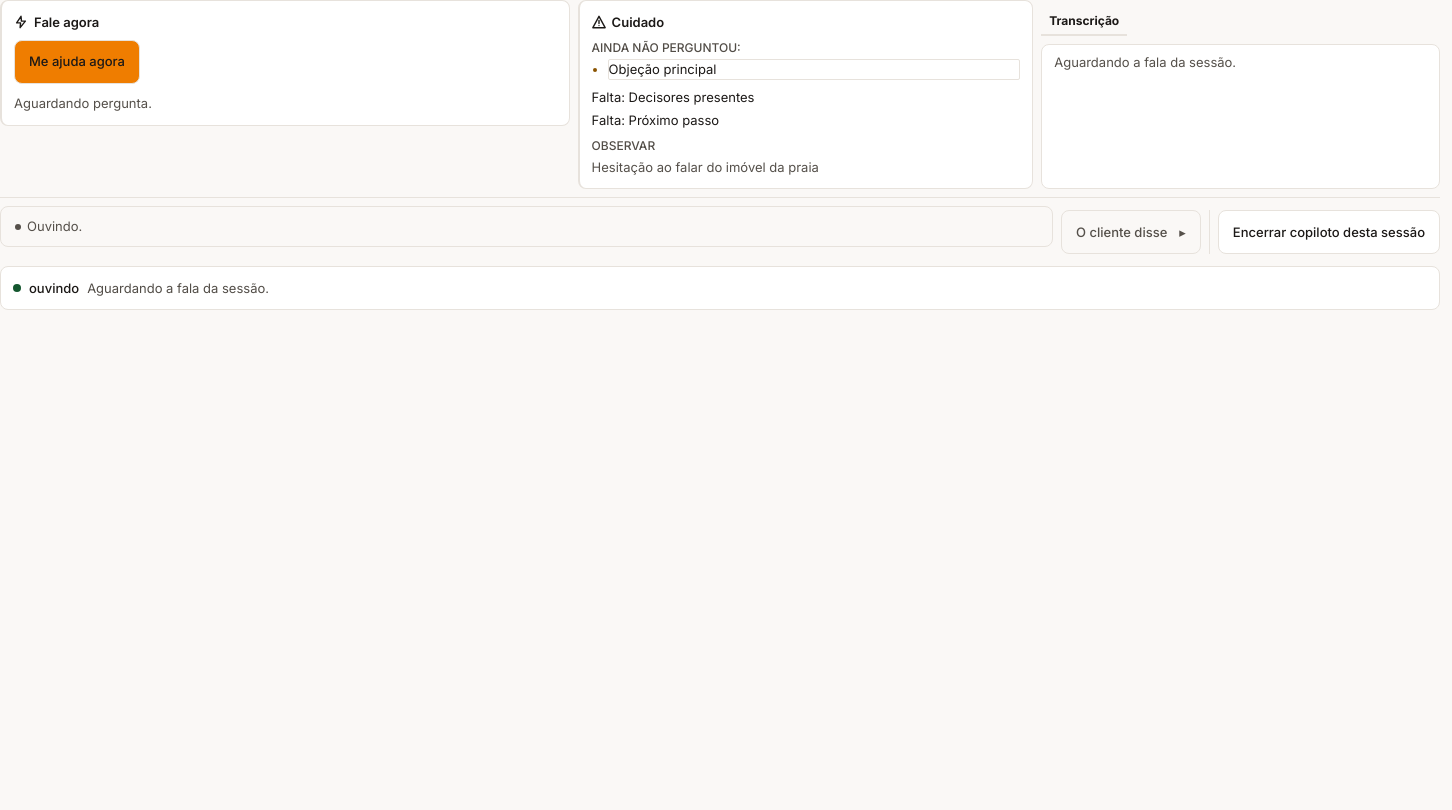
Test: PainelCopiloto — kill-switch (copiloto_sessao.ativo=false) › copiloto_desligado ao registrar um trecho: mensagem de estado, não de falha genérica
Click the button "O cliente disse ▸".
click(1131, 232)  # box [1061,210,1201,254]
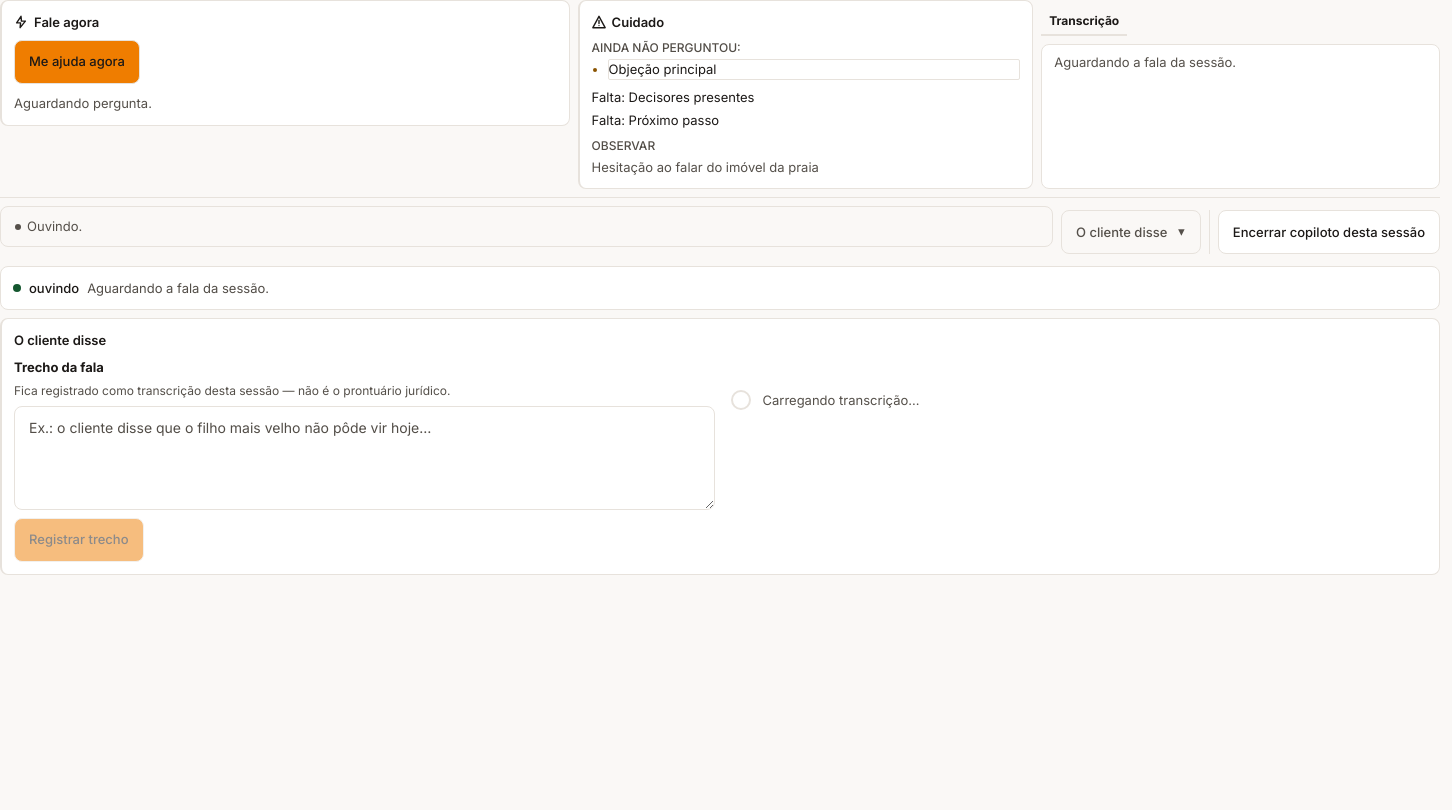
Replace the text in the text box labelled "Trecho da fala" with "trecho qualquer" at {"x": 364, "y": 458}, box [14,406,714,510]
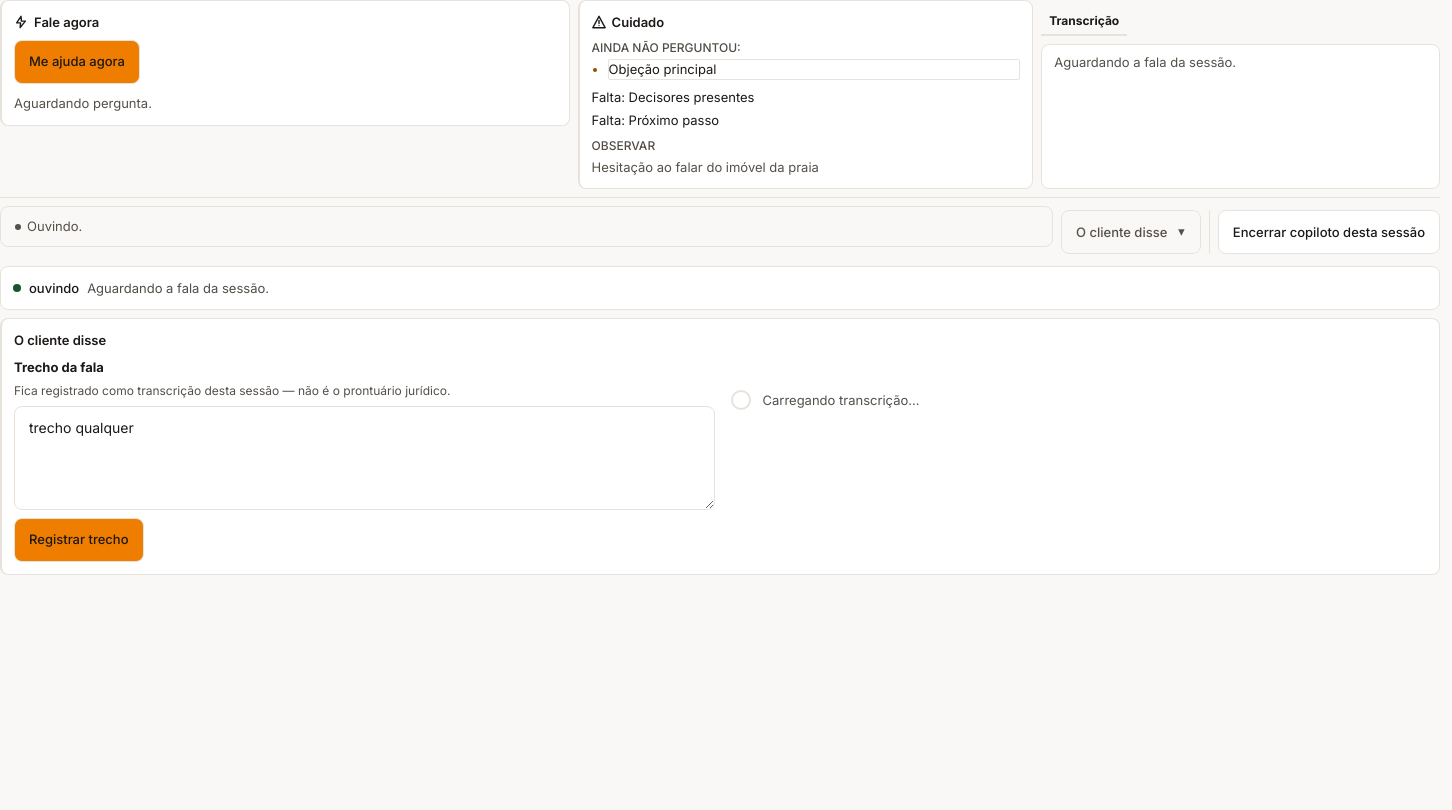
Click the button "Registrar trecho".
click(79, 540)  # box [14,518,144,562]
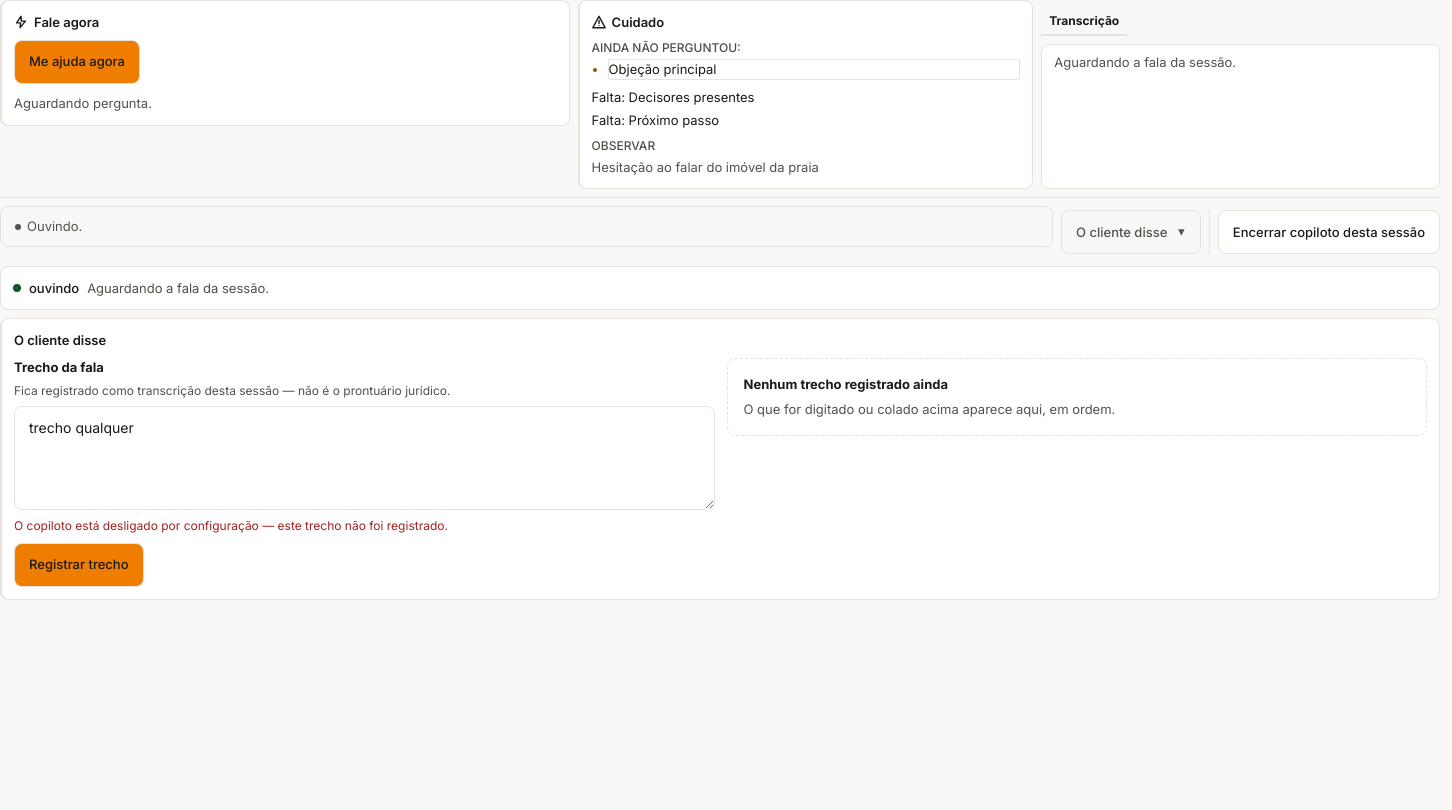
Expected: the message "O copiloto está desligado por configuração — este trecho não foi registrado." is shown, [14,518,448,533]
